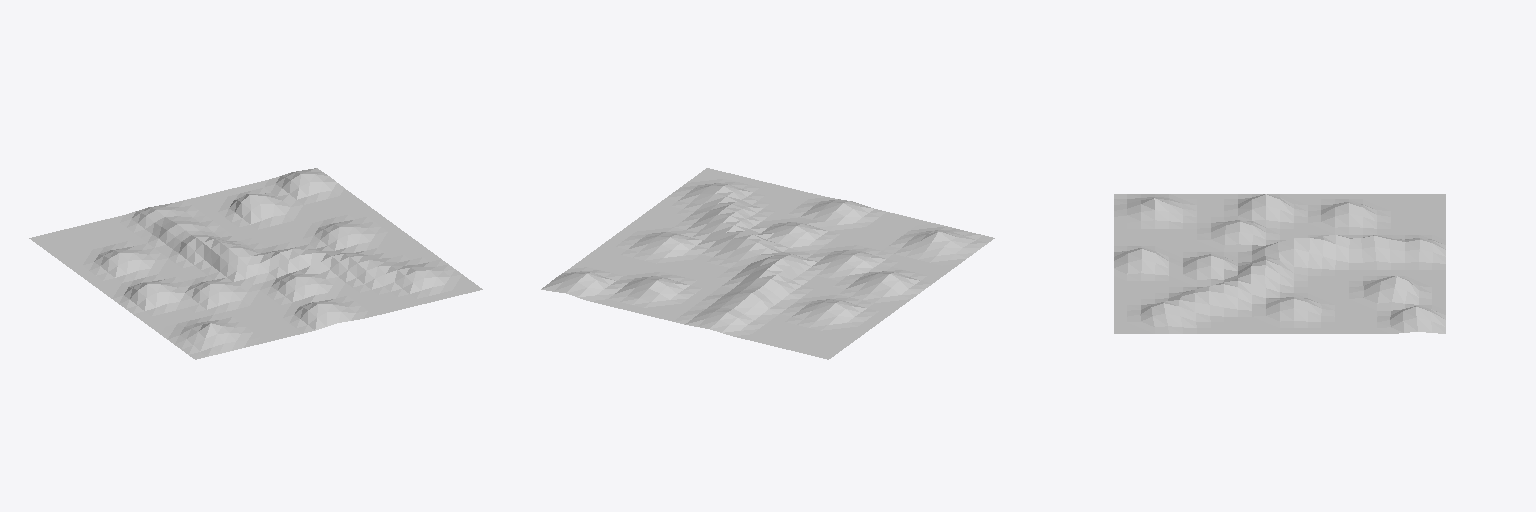
The model's file is Sand.obj.
The picture shows the model from 3 angles: view 1: azimuth 30°, elevation 25°; view 2: azimuth 150°, elevation 25°; view 3: azimuth 270°, elevation 25°; orthographic projection.
Visible parts, largest first — view 1: Grid_Grid.001; view 2: Grid_Grid.001; view 3: Grid_Grid.001.
Boxes of the visible parts, box(x1,y1,x2,y2) form: Grid_Grid.001: box(29, 168, 482, 359); Grid_Grid.001: box(541, 168, 994, 359); Grid_Grid.001: box(1114, 194, 1445, 333).
Size of the model in its own units: 50 by 2.61 by 50.04.